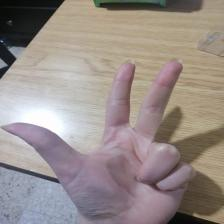three: (6, 57, 196, 216)
